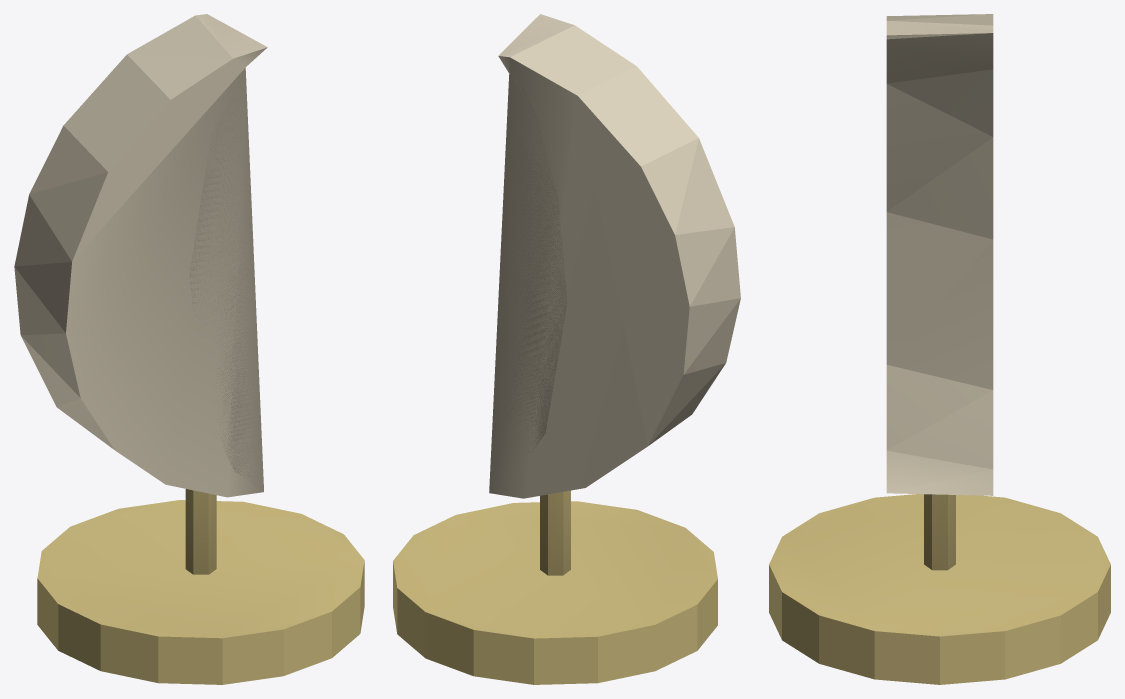
Rendered from furn_moon_lamp__gold_low.glb.
3 views of the same model, side by side, from view 1: azimuth 30°, elevation 25°; view 2: azimuth 150°, elevation 25°; view 3: azimuth 270°, elevation 25° (orthographic). The views are drawn at different scales.
Bounding box in the file's own units: 0.3402 × 0.6178 × 0.32.
